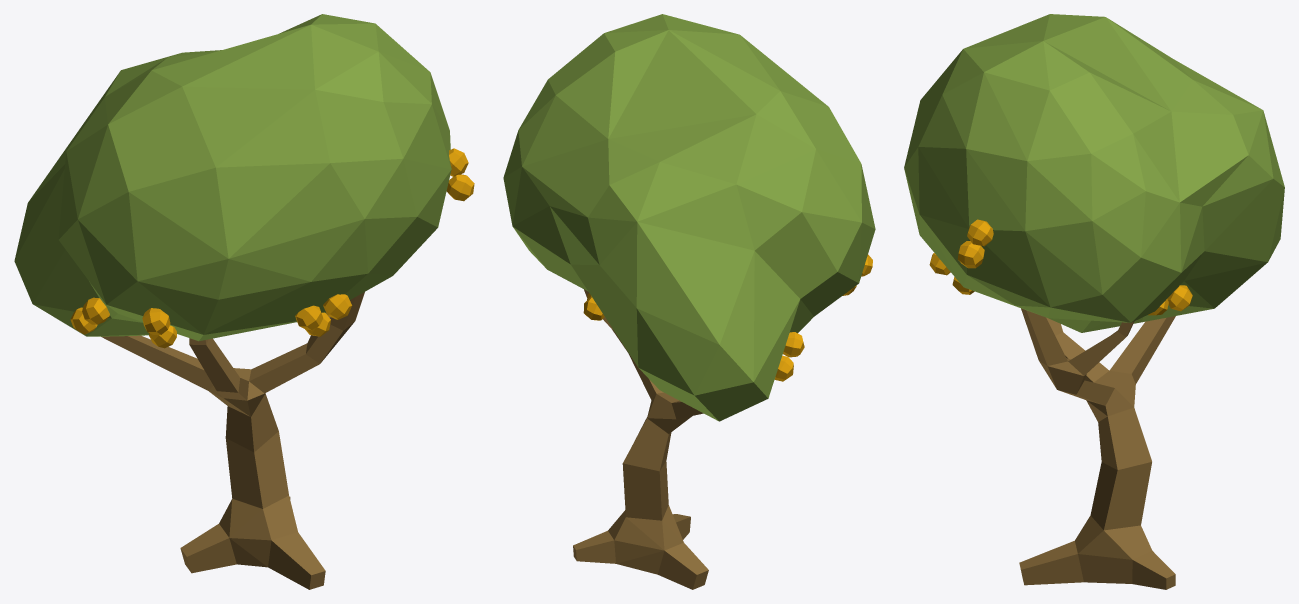
File: peachtree.fbx
3 views of the same model, side by side, from view 1: azimuth 30°, elevation 25°; view 2: azimuth 150°, elevation 25°; view 3: azimuth 270°, elevation 25° (orthographic). The views are drawn at different scales.
Parts seen in each view (by area): view 1: peachtree_LOD0; view 2: peachtree_LOD0; view 3: peachtree_LOD0.
Part boxes in pixels (left/top/right/bottom): peachtree_LOD0: left=14, top=14, right=474, bottom=589; peachtree_LOD0: left=503, top=14, right=875, bottom=589; peachtree_LOD0: left=904, top=14, right=1284, bottom=589.
Size of what is drawn, in the model's own units: 5.6 by 8.31 by 5.25.
